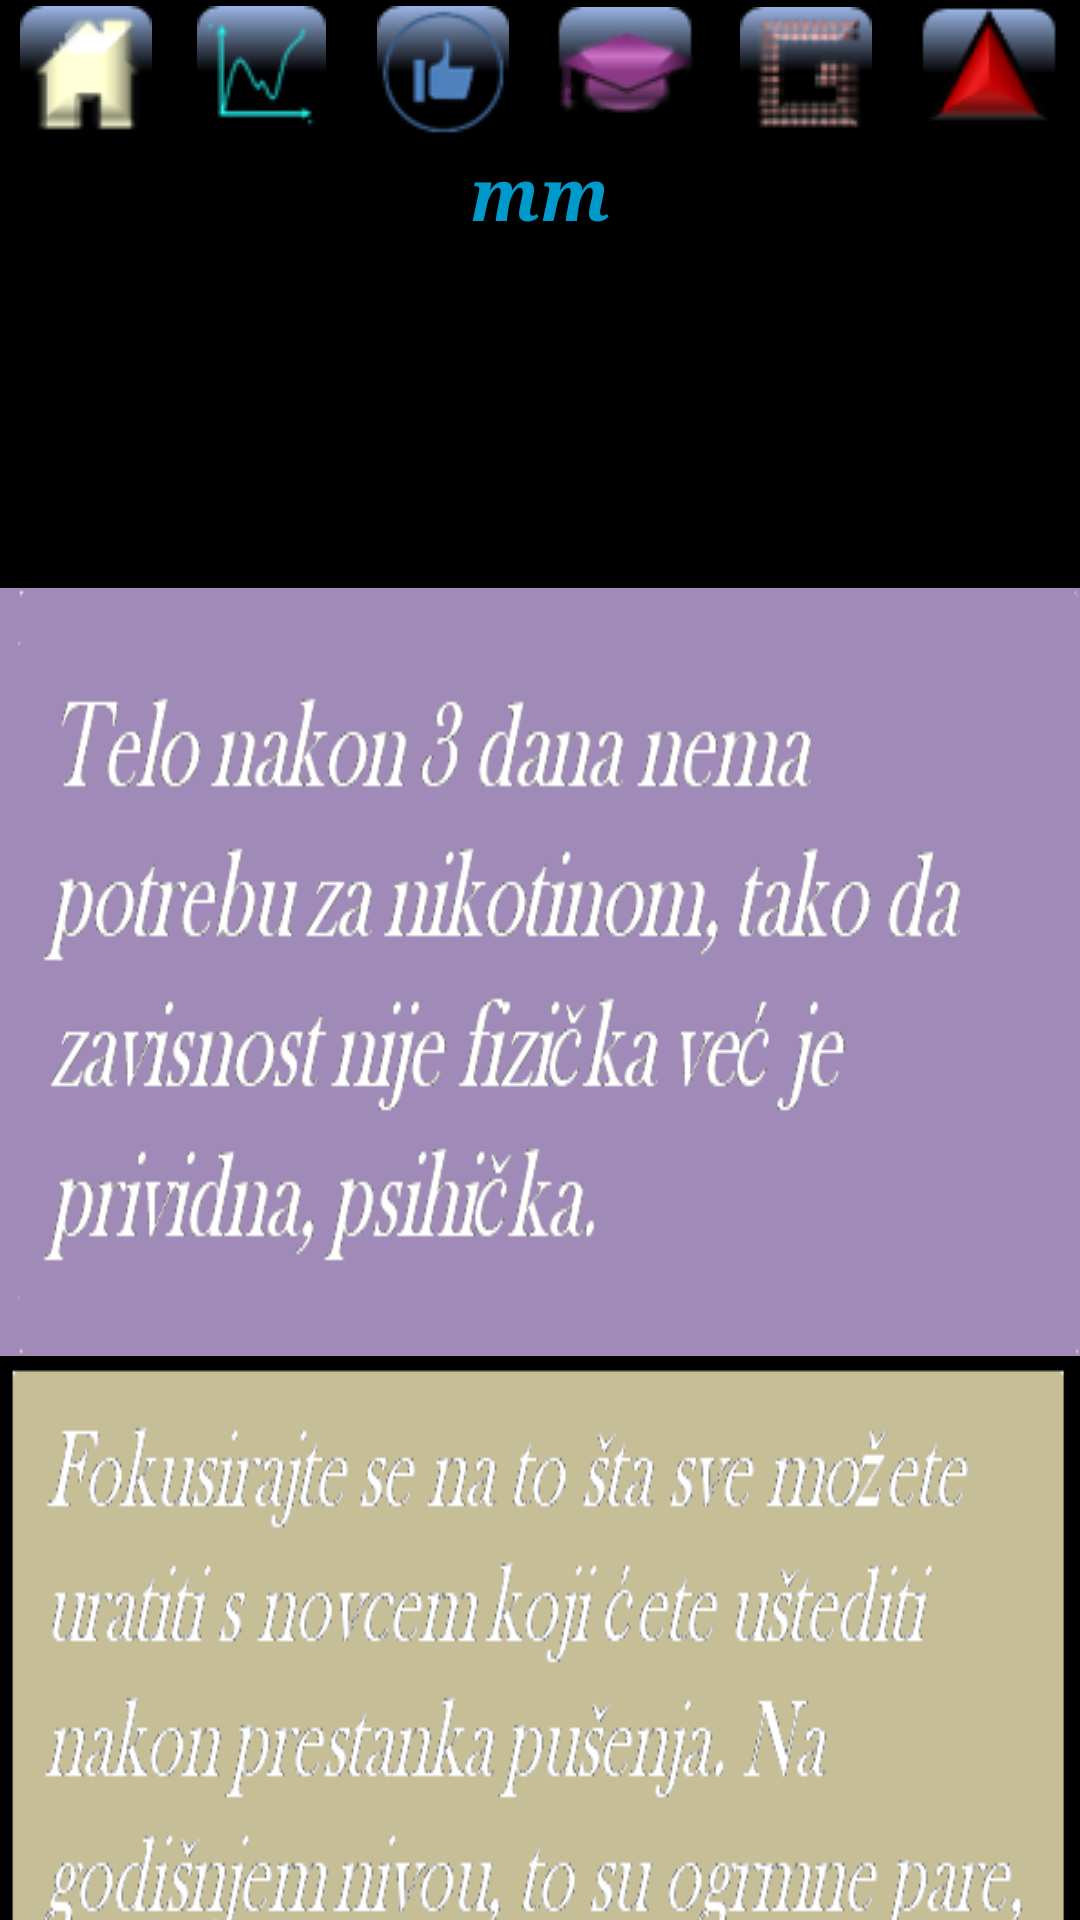

Where icons sit on this 1080w x 1920h app screen, as bbox=[x1, y1, x2, y2]:
Achievements: bbox=[558, 7, 692, 112]
Game: bbox=[740, 7, 872, 128]
Home: bbox=[20, 6, 152, 130]
Kriza: bbox=[922, 8, 1056, 119]
Motivations: bbox=[377, 6, 509, 133]
Progress: bbox=[197, 6, 326, 125]
